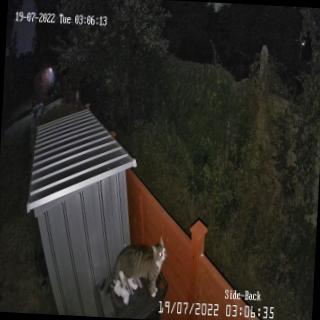cat: (110, 239, 168, 306)
